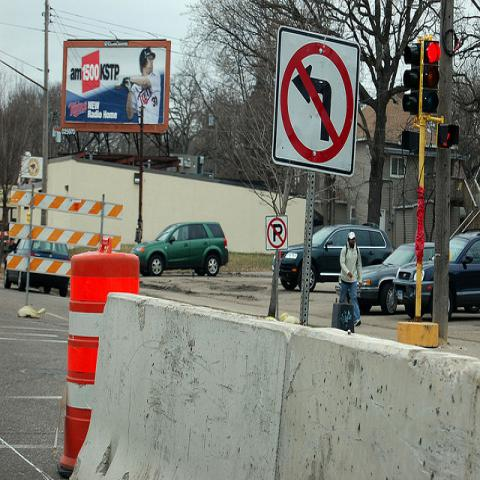car: (393, 232, 479, 322), (279, 224, 392, 292), (336, 242, 436, 316), (129, 221, 229, 277), (3, 238, 69, 297)
